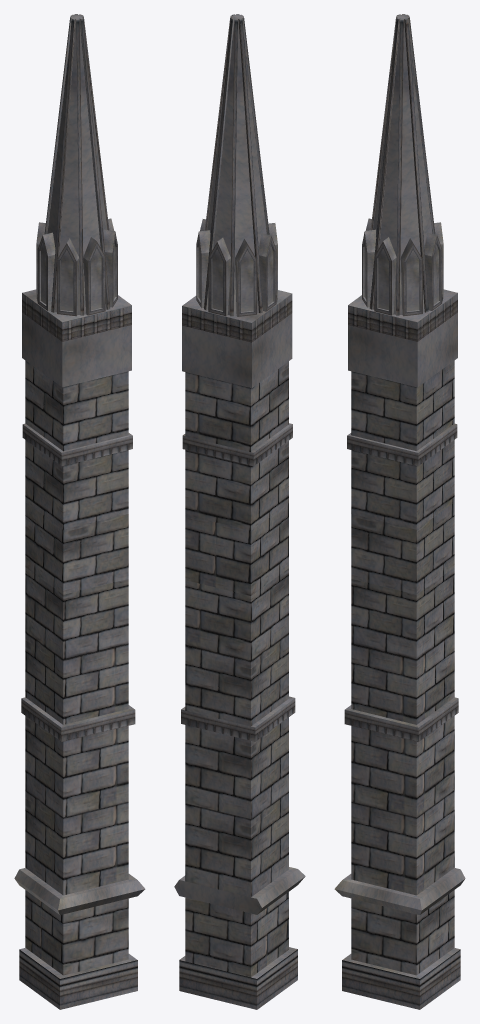
Rendered from tower_small_01.glb.
The picture shows the model from 3 angles, left to right: view 1: azimuth 30°, elevation 25°; view 2: azimuth 150°, elevation 25°; view 3: azimuth 330°, elevation 25°; orthographic projection.
Parts seen in each view (by area): view 1: tower_small_01; view 2: tower_small_01; view 3: tower_small_01.
Boxes of the visible parts, x1=… form: tower_small_01: x1=14, y1=14, x2=145, y2=1009; tower_small_01: x1=174, y1=14, x2=305, y2=1009; tower_small_01: x1=334, y1=14, x2=465, y2=1009.
Size of the model in its own units: 5.35 by 56.47 by 4.74.
Materials: 1 (1 with a texture image).
